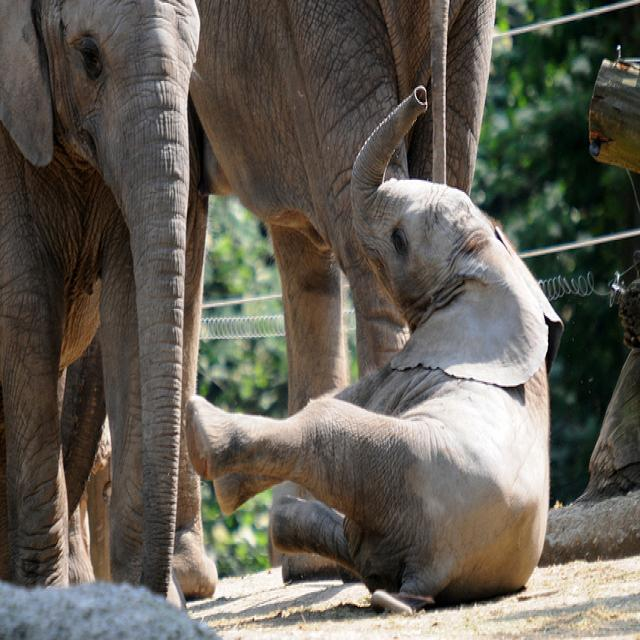Elephant: (183, 82, 564, 616), (0, 0, 201, 610)
